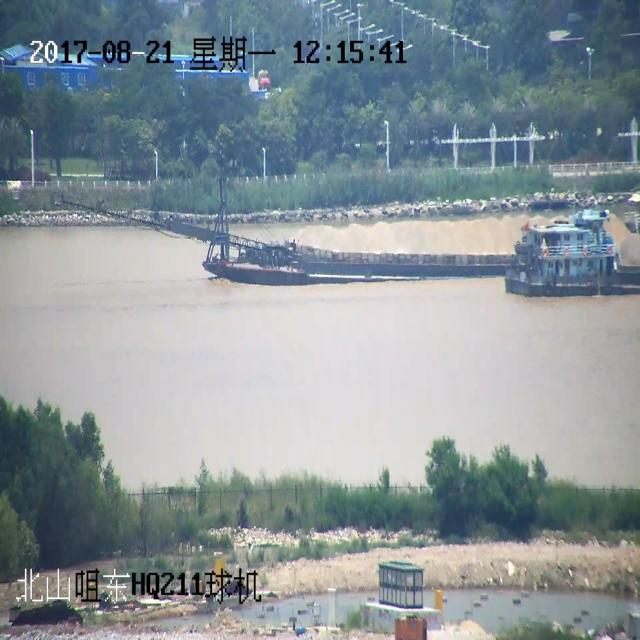cargoship: (168, 175, 619, 323)
